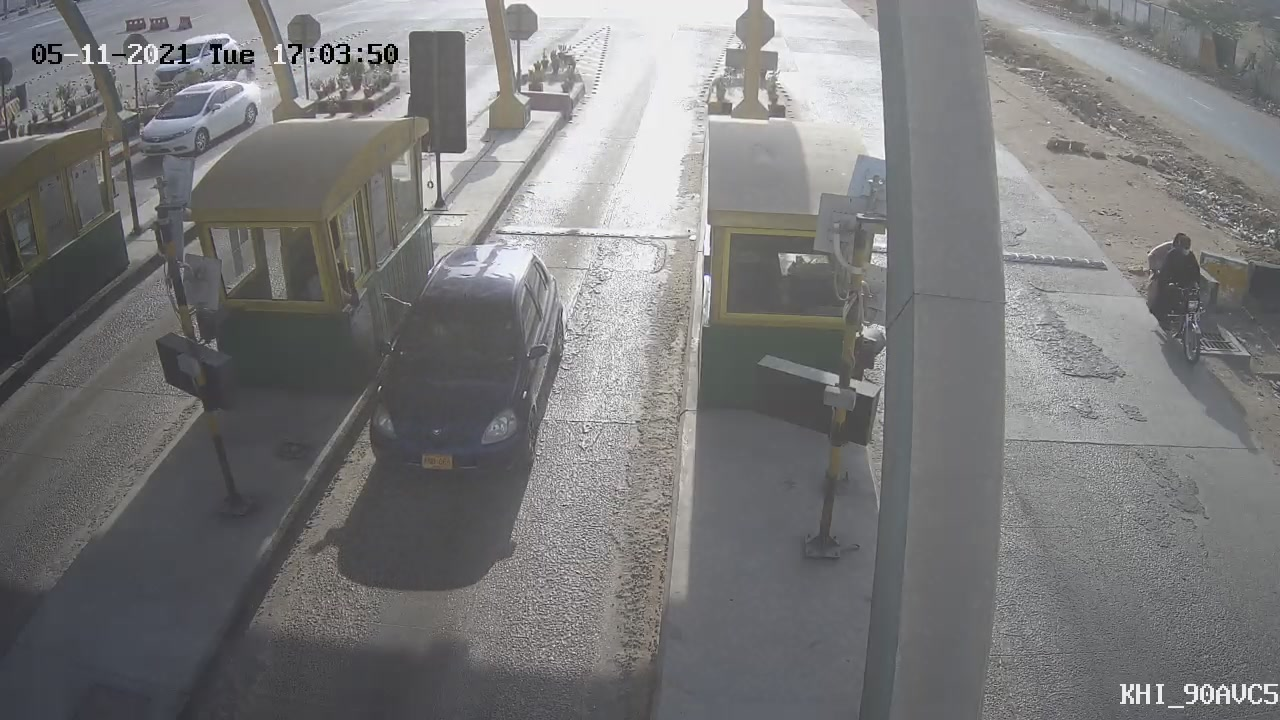F1: (338, 218, 582, 501)
